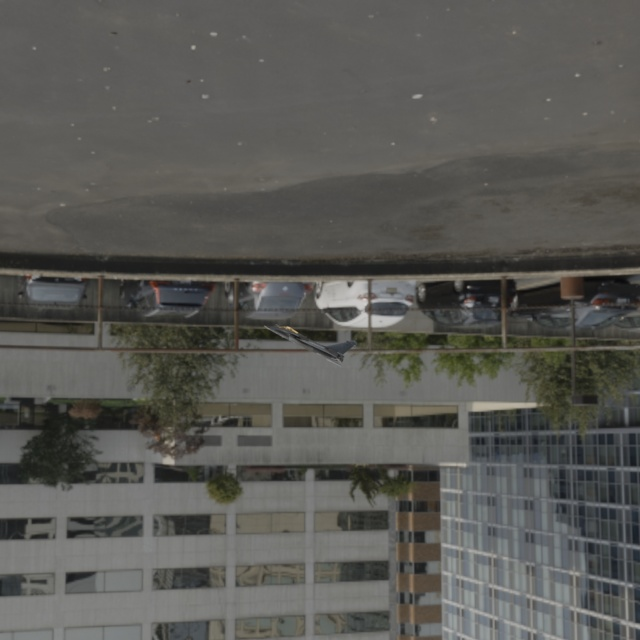dassault_rafale: (252, 297, 365, 375)
